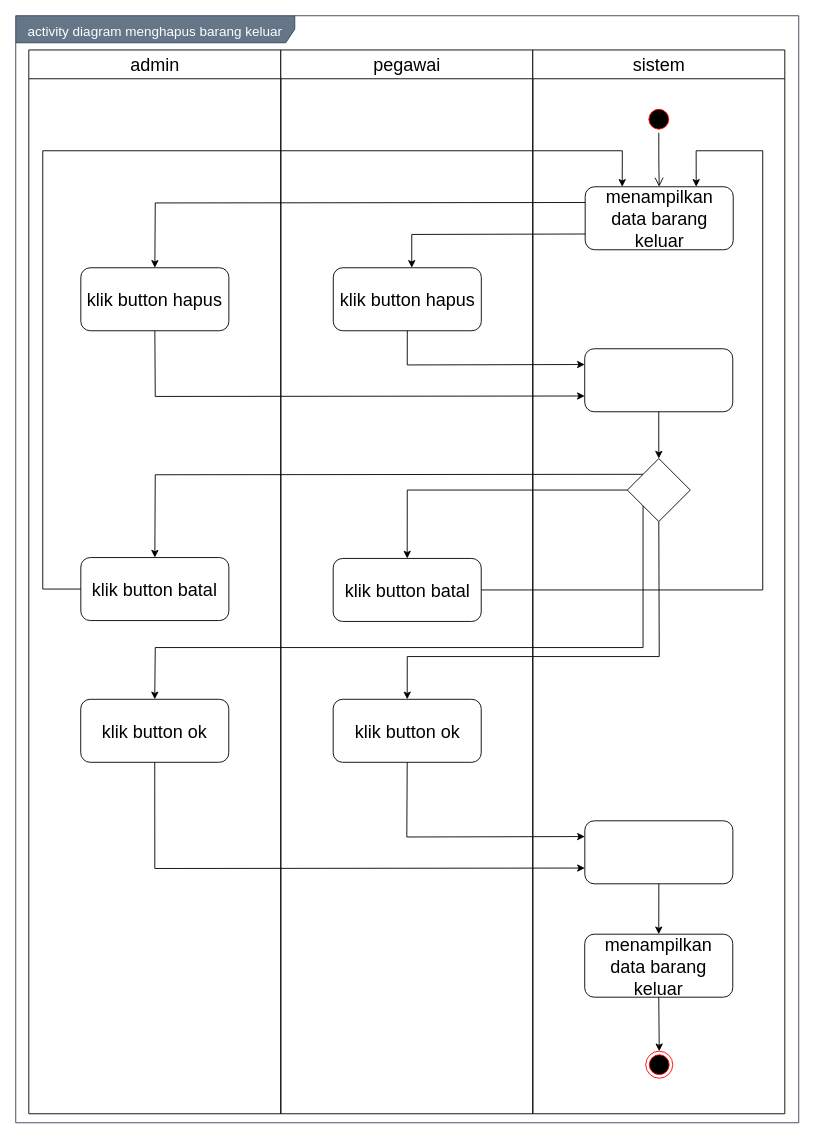
Some shapes in this 815 by 1139 pixel diagram are drawn without their labels. The shapes that lost their labels are listed below. From the top down, each one's centre as x and y in pixels, then its label:
(658,380): menampilkan konfirmasi hapus barang keluar
(658,852): menghapus data barang keluar
